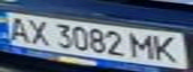0: (69, 24, 90, 52)
2: (103, 28, 127, 57)
3: (51, 20, 75, 50)
8: (87, 26, 109, 55)
A: (3, 14, 33, 43)
K: (151, 34, 184, 64)
M: (127, 30, 160, 61)
X: (24, 16, 54, 47)
